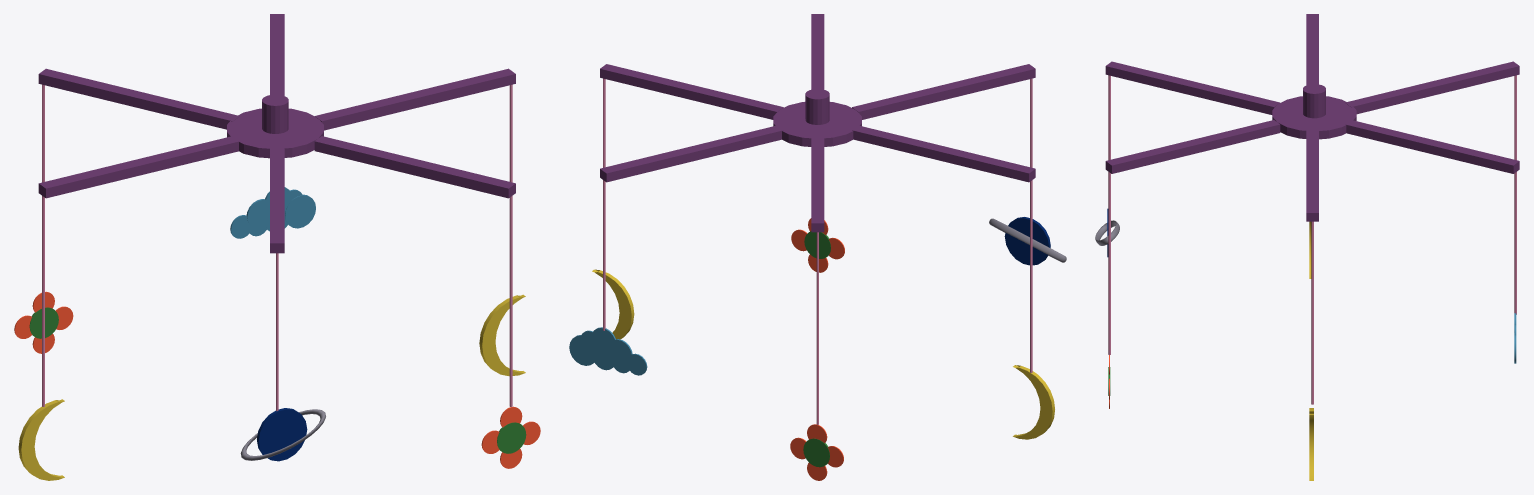
Rendered from movil.fbx.
3 views of the same model, side by side, from view 1: azimuth 30°, elevation 25°; view 2: azimuth 150°, elevation 25°; view 3: azimuth 270°, elevation 25° (orthographic). The views are drawn at different scales.
Parts seen in each view (by area): view 1: Box006, Cylinder008, Cylinder011, Cylinder001, Cylinder007, Cylinder004, Cylinder006; view 2: Box006, Cylinder011, Cylinder008, Cylinder007, Cylinder001, Cylinder004, Cylinder006; view 3: Box006.
Boxes of the visible parts, <box> form: Box006: <box>38,14,515,411</box>; Cylinder008: <box>240,408,325,461</box>; Cylinder011: <box>230,187,315,238</box>; Cylinder001: <box>481,406,540,468</box>; Cylinder007: <box>14,291,73,353</box>; Cylinder004: <box>18,399,64,480</box>; Cylinder006: <box>479,294,525,376</box>; Box006: <box>600,14,1035,424</box>; Cylinder011: <box>569,327,647,375</box>; Cylinder008: <box>989,217,1066,265</box>; Cylinder007: <box>790,424,843,480</box>; Cylinder001: <box>791,218,844,272</box>; Cylinder004: <box>1013,365,1054,439</box>; Cylinder006: <box>592,269,634,339</box>; Box006: <box>1105,14,1519,404</box>.
Bounding box in the file's own units: 787 × 494 × 661.
